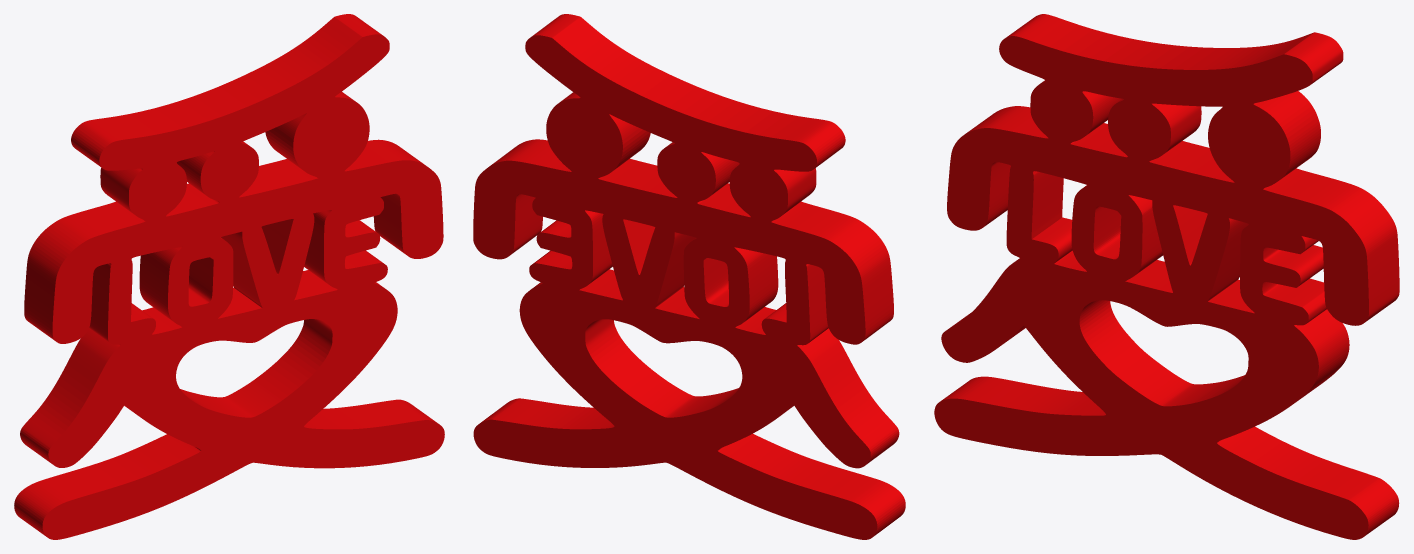
Rendered from love.glb.
3 views of the same model, side by side, from view 1: azimuth 30°, elevation 25°; view 2: azimuth 150°, elevation 25°; view 3: azimuth 330°, elevation 25° (orthographic). The views are drawn at different scales.
Parts seen in each view (by area): view 1: 愛; view 2: 愛; view 3: 愛.
Part boxes in pixels (box(x1,y1,x2,y2)): 愛: box(14, 14, 444, 539); 愛: box(473, 14, 905, 539); 愛: box(934, 14, 1399, 539).
Size of the model in its own units: 0.1637 by 0.1685 by 0.0214.
